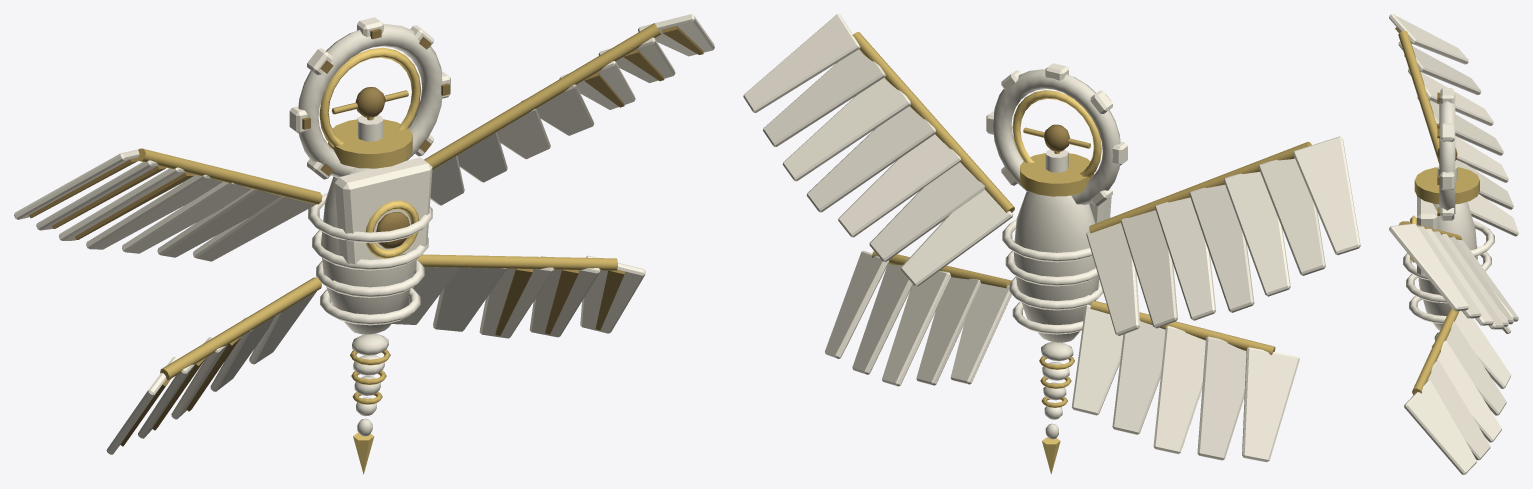
The model's file is seraph.glb.
3 views of the same model, side by side, from view 1: azimuth 30°, elevation 25°; view 2: azimuth 150°, elevation 25°; view 3: azimuth 270°, elevation 25° (orthographic). The views are drawn at different scales.
Parts seen in each view (by area): view 1: seraph*1.011, seraph*1.004, seraph*1.0, gold*0.008, gold*0.7, seraph*1.029, seraph*1.035, seraph*1.036, seraph*1.034, seraph*1.033, gold*0.009, gold*0.011 (+32 smaller); view 2: seraph*1.0, seraph*1.011, seraph*1.024, seraph*1.042, seraph*1.044, seraph*1.025, seraph*1.023, seraph*1.036, seraph*1.043, seraph*1.039, seraph*1.037, seraph*1.022 (+24 smaller); view 3: seraph*1.032, seraph*1.027, seraph*1.030, seraph*1.031, seraph*1.029, seraph*1.0, gold*0.7, seraph*1.028, seraph*1.011, gold*0.010, seraph*1.039, seraph*1.038 (+22 smaller).
Part boxes in pixels (x1,y1,x2,y2): seraph*1.011: [298, 24, 442, 178]; seraph*1.004: [335, 157, 432, 264]; seraph*1.0: [321, 167, 416, 334]; gold*0.008: [424, 23, 660, 169]; gold*0.7: [328, 119, 412, 168]; seraph*1.029: [433, 267, 506, 331]; seraph*1.035: [122, 182, 251, 253]; seraph*1.036: [86, 174, 222, 249]; seraph*1.034: [157, 189, 280, 257]; seraph*1.033: [193, 196, 316, 261]; gold*0.009: [417, 254, 617, 270]; gold*0.011: [160, 277, 321, 379]; seraph*1.0: [1013, 191, 1099, 342]; seraph*1.011: [993, 69, 1120, 204]; seraph*1.024: [806, 106, 935, 212]; seraph*1.042: [1153, 326, 1205, 454]; seraph*1.044: [1242, 347, 1299, 462]; seraph*1.025: [782, 78, 910, 181]; seraph*1.023: [838, 134, 960, 237]; seraph*1.036: [1189, 184, 1254, 312]; seraph*1.043: [1197, 336, 1246, 460]; seraph*1.039: [1293, 136, 1360, 255]; seraph*1.037: [1223, 171, 1290, 296]; seraph*1.022: [869, 162, 984, 261]; seraph*1.032: [1404, 380, 1476, 474]; seraph*1.027: [1389, 223, 1468, 311]; seraph*1.030: [1437, 340, 1501, 442]; seraph*1.031: [1414, 360, 1490, 460]; seraph*1.029: [1446, 321, 1506, 415]; seraph*1.0: [1418, 202, 1477, 330]; gold*0.7: [1414, 167, 1479, 204]; seraph*1.028: [1455, 310, 1510, 388]; seraph*1.011: [1439, 94, 1455, 213]; gold*0.010: [1398, 31, 1439, 163]; seraph*1.039: [1389, 14, 1468, 64]; seraph*1.038: [1398, 41, 1481, 94].
Bounding box in the file's own units: 3.03 × 1.9 × 0.638.
